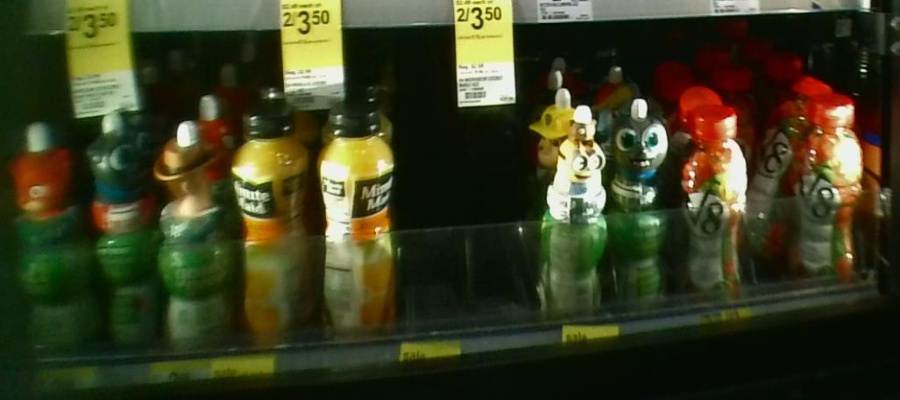bottle: (312, 101, 395, 341), (82, 103, 156, 369), (230, 100, 308, 348), (4, 115, 80, 369), (156, 116, 228, 346), (677, 104, 750, 310), (540, 105, 607, 324), (609, 97, 670, 314), (803, 91, 863, 289), (754, 98, 799, 292)
